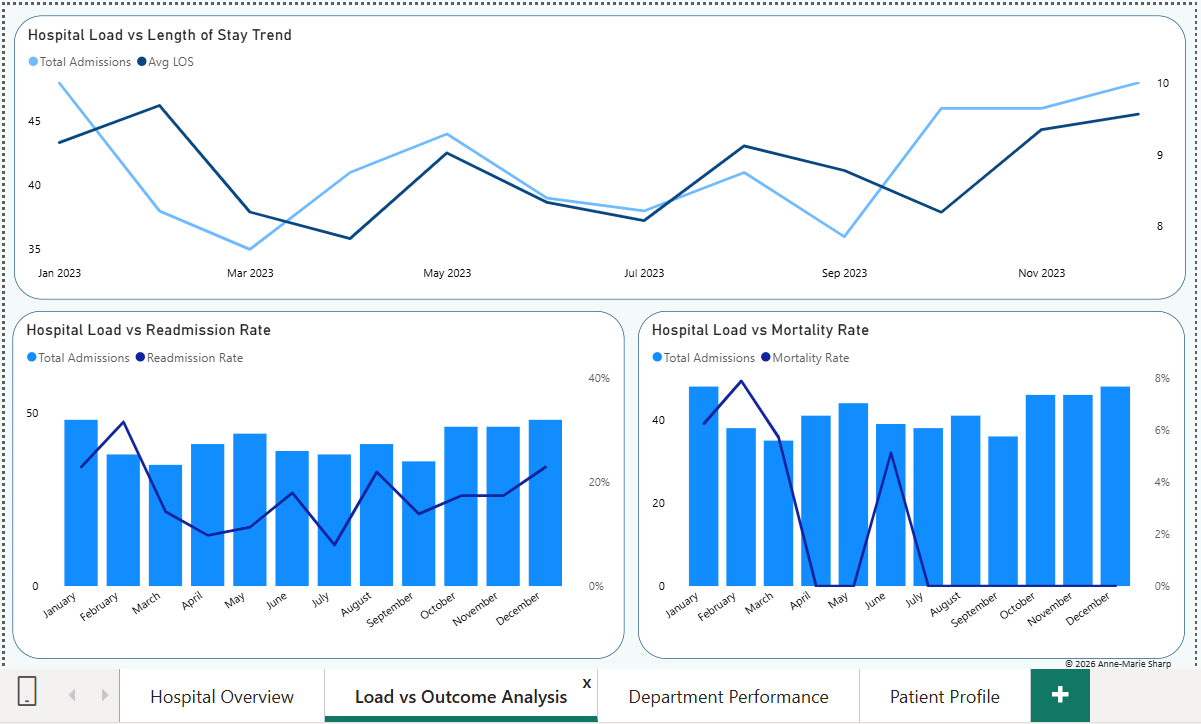

This screenshot's page, from the dashboard's own definition file:
{"tool":"powerbi","page":{"name":"Load vs Outcome Analysis","canvas":[1280,720],"ordinal":1},"visuals":[{"type":"lineChart","title":"Hospital Load vs Length of Stay Trend","fields":{"Y2":["public hospital_admissions.Avg LOS"],"Y":["public hospital_admissions.Total Admissions"],"Category":["public hospital_admissions.admission_date.Variation.Date Hierarchy.Year","public hospital_admissions.admission_date.Variation.Date Hierarchy.Quarter","public hospital_admissions.admission_date.Variation.Date Hierarchy.Month","public hospital_admissions.admission_date.Variation.Date Hierarchy.Day"]},"box":[9.1,10.6,1260.3,305.6],"z":0},{"type":"lineClusteredColumnComboChart","title":"Hospital Load vs Mortality Rate","fields":{"Category":["public hospital_admissions.admission_month.Variation.Date Hierarchy.Month"],"Y2":["public hospital_admissions.Mortality Rate"],"Y":["public hospital_admissions.Total Admissions"]},"box":[681.2,329,588,374.1],"z":1000},{"type":"lineClusteredColumnComboChart","title":"Hospital Load vs Readmission Rate","fields":{"Category":["public hospital_admissions.admission_month.Variation.Date Hierarchy.Month"],"Y2":["public hospital_admissions.Readmission Rate"],"Y":["public hospital_admissions.Total Admissions"]},"box":[8.7,329,657.9,374.1],"z":2000},{"type":"textbox","box":[1043.6,691.4,215.4,29.1],"z":3000}]}

Visuals, with their boxes on the page's 1280x720 design canvas (x1, y1, x2, y2). These are canvas units, not pixel positions in the 1201x724 screenshot, which may show the page scaled, cropped or inside an application window:
"Hospital Load vs Length of Stay Trend" lineChart: x1=9 y1=11 x2=1269 y2=316
"Hospital Load vs Mortality Rate" lineClusteredColumnComboChart: x1=681 y1=329 x2=1269 y2=703
"Hospital Load vs Readmission Rate" lineClusteredColumnComboChart: x1=9 y1=329 x2=667 y2=703
textbox: x1=1044 y1=691 x2=1259 y2=720
